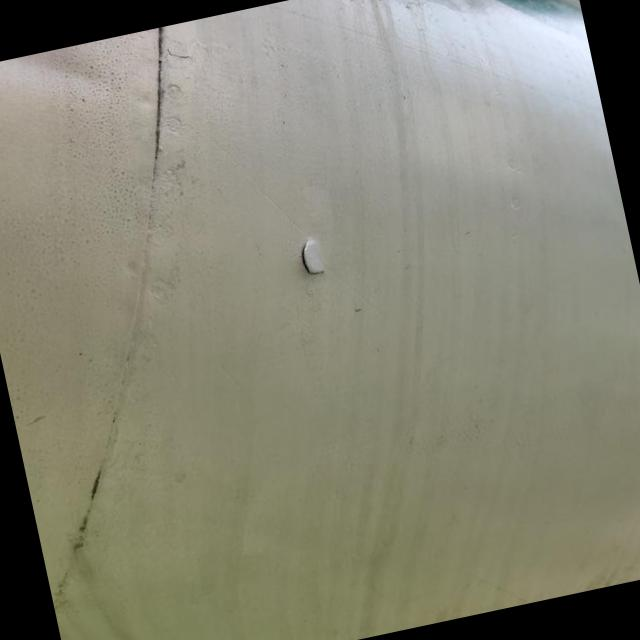Crack: (300, 238, 325, 273)
